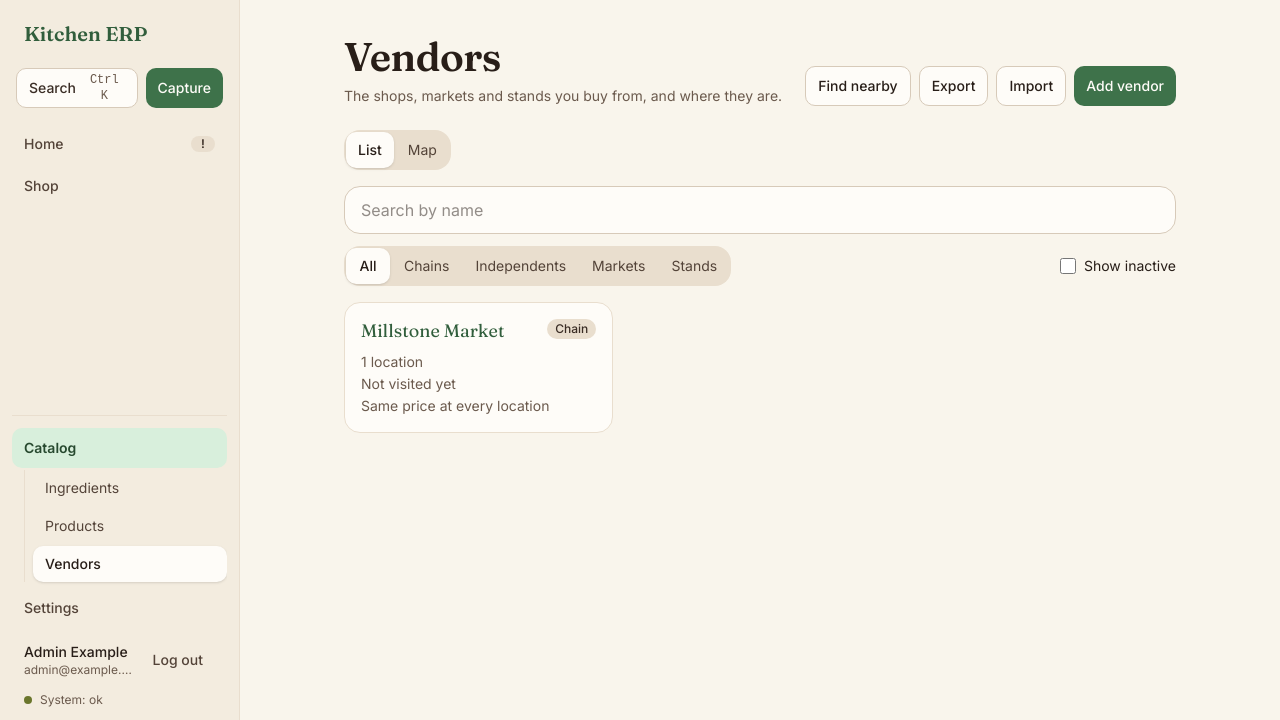
vendors › lists candidates and adopts one with a kind override
Expected: the list named "Vendors" is shown, [344,302,613,433]
Click the button "Find nearby" at (858, 86), box [805,66,911,106]
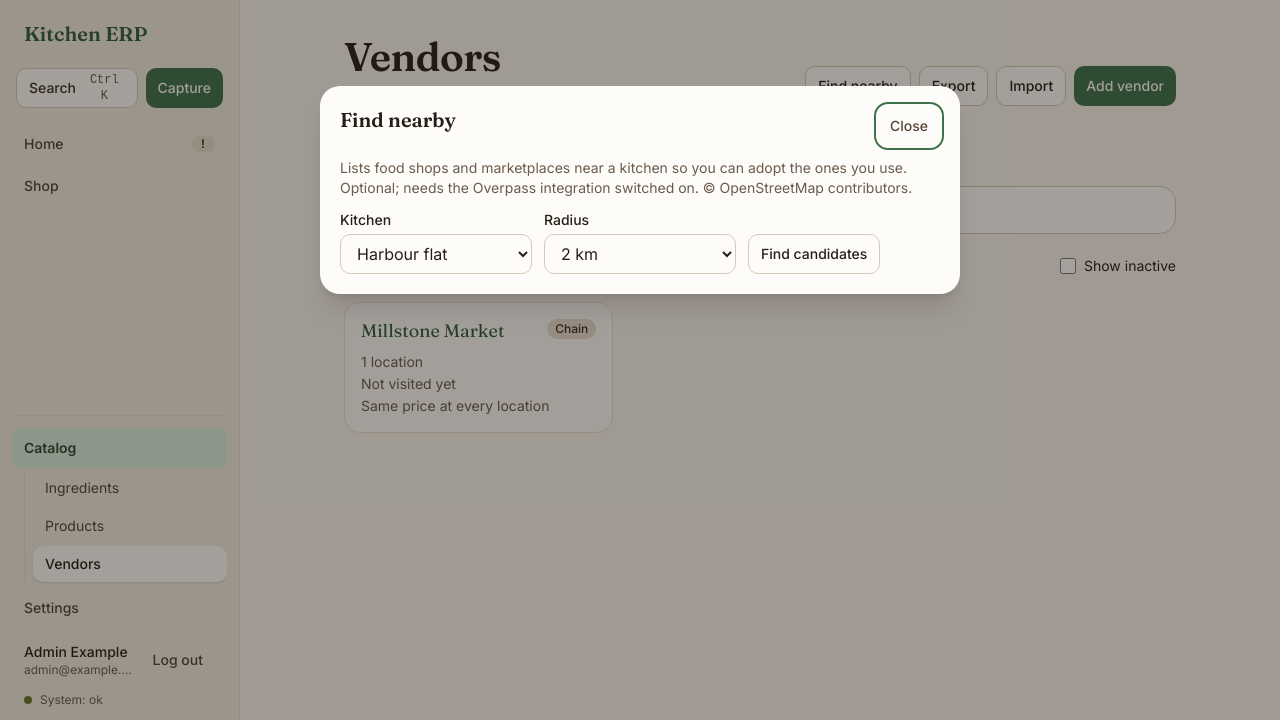
Result: the dropdown labelled "Kitchen" shows "Harbour flat" at [340,234,532,274]
Click the button "Find candidates" at (814, 254), box [748,234,880,274]
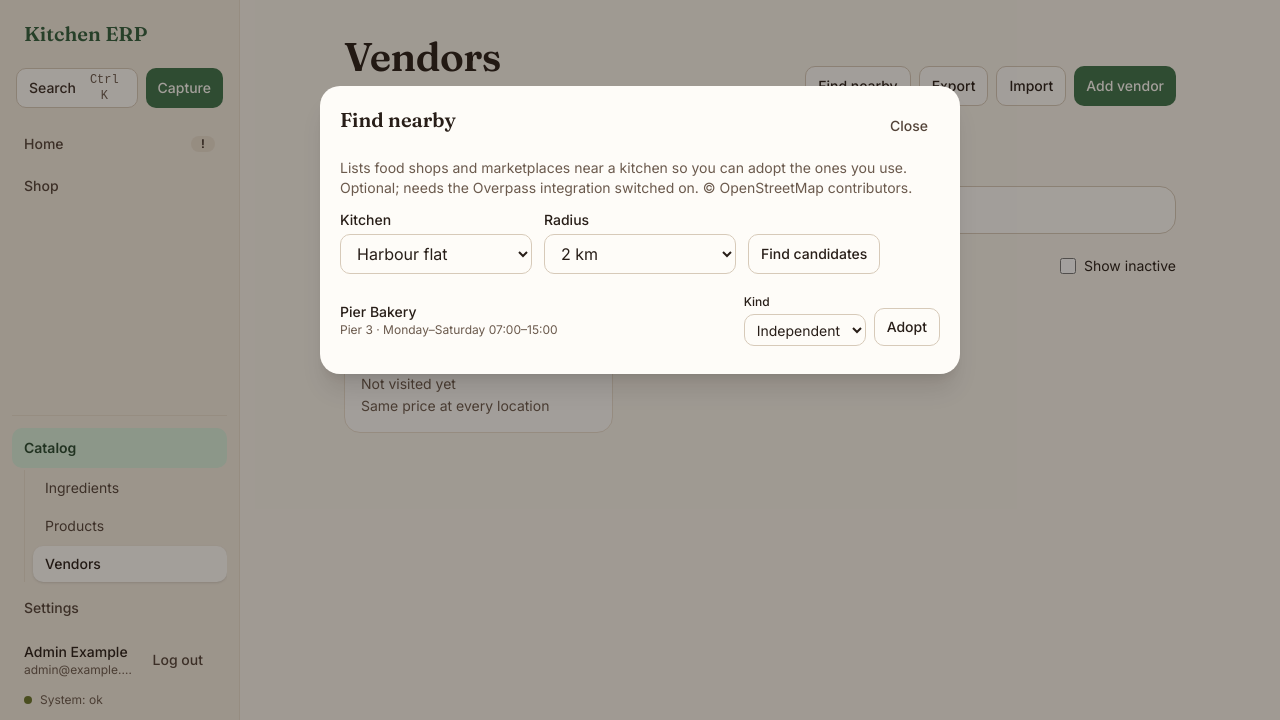
Result: the text "Pier Bakery" is shown at [340,303,416,320]
Result: the text "Pier 3 · Monday–Saturday 07:00–15:00" is shown at [340,322,558,338]
Select "Chain" in the dropdown labelled "Kind" at (805, 330), box [744,314,866,346]
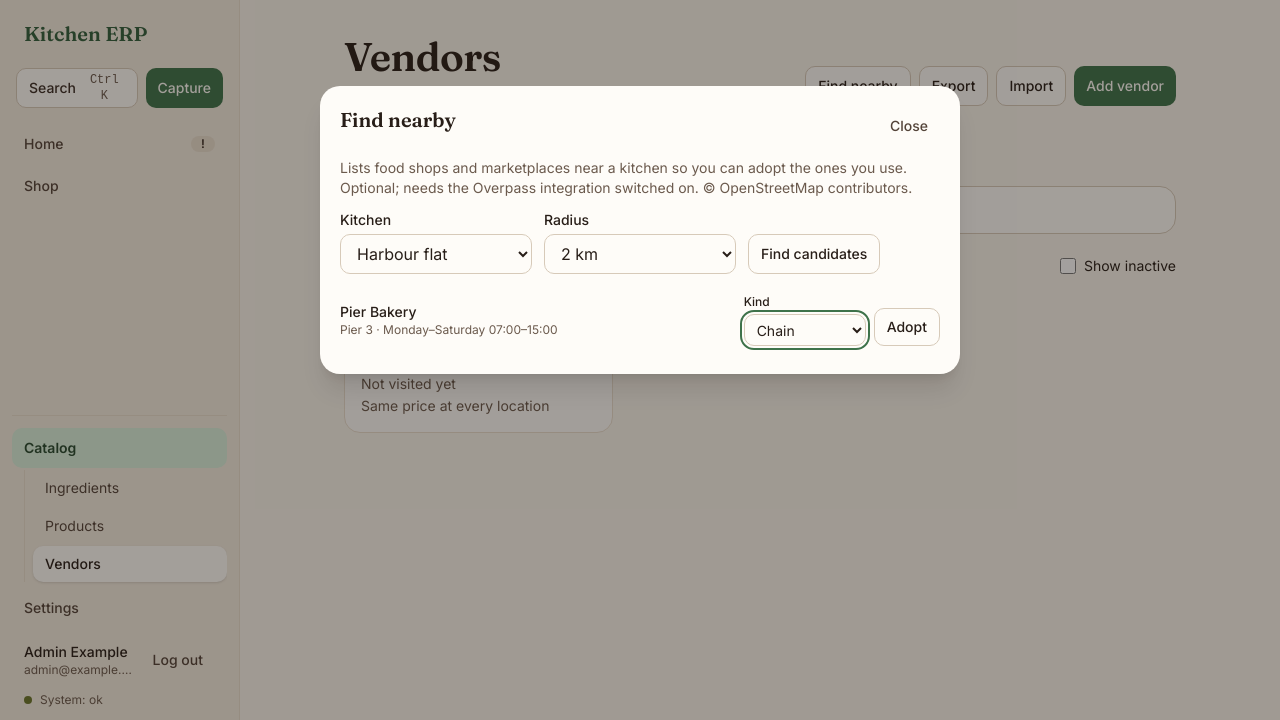
Click the button with aria-label "Adopt Pier Bakery" at (907, 327), box [874,308,940,346]
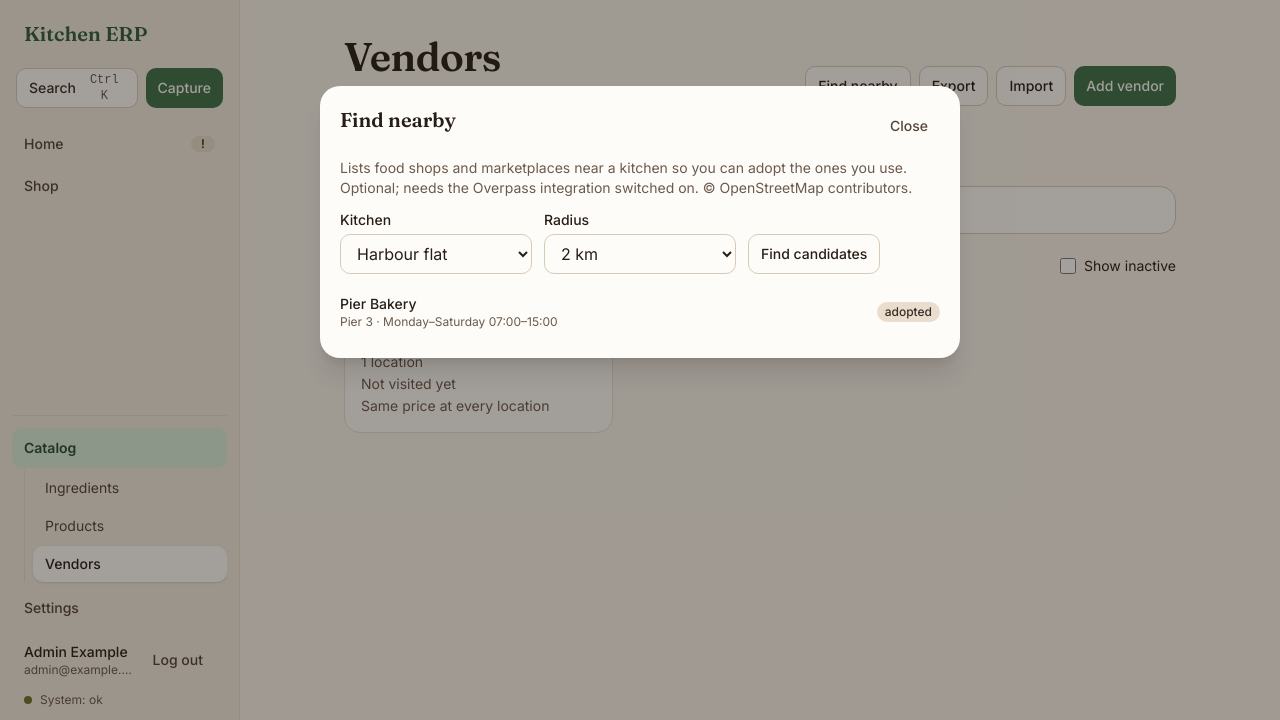
Result: the text "adopted" is shown at [877,302,940,322]
